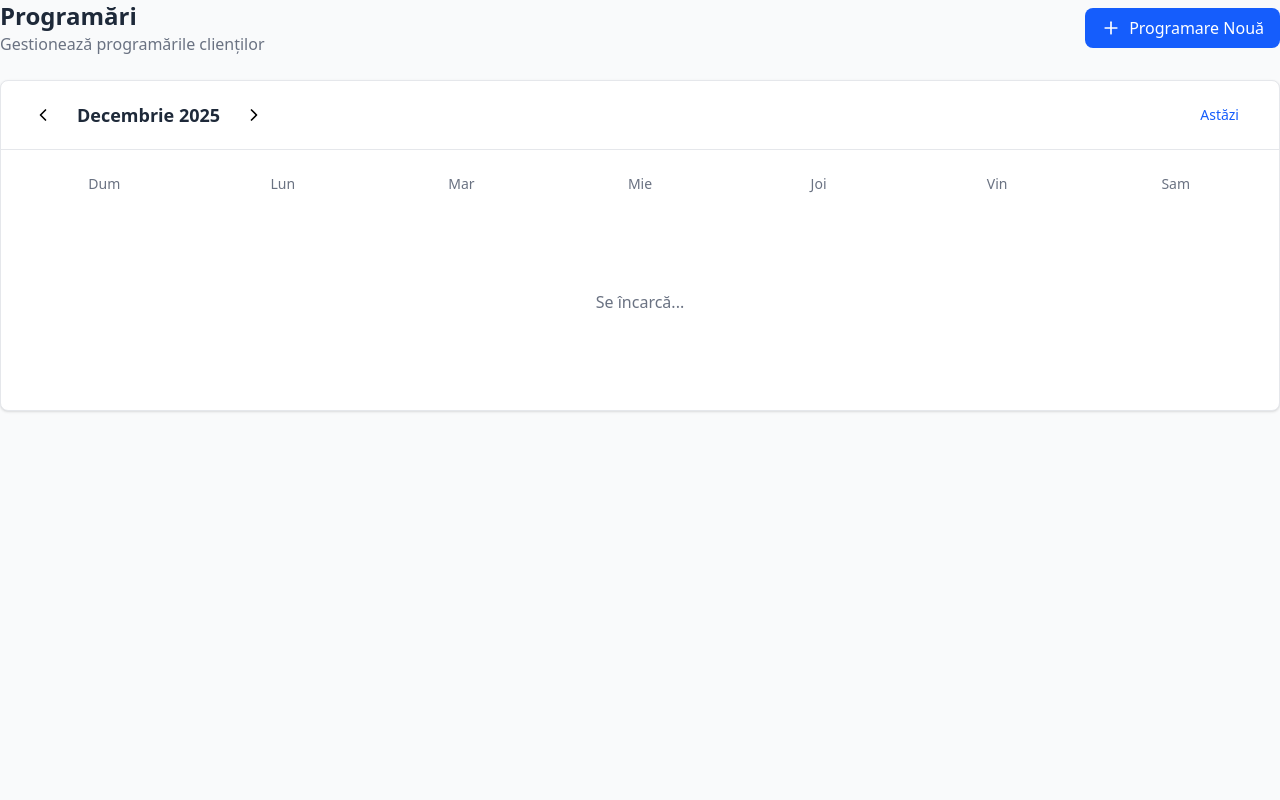
AppointmentsPage › opens new appointment modal when clicking button
Click the button "Programare Nouă". click: (1183, 28)
box: [1085,8,1279,48]
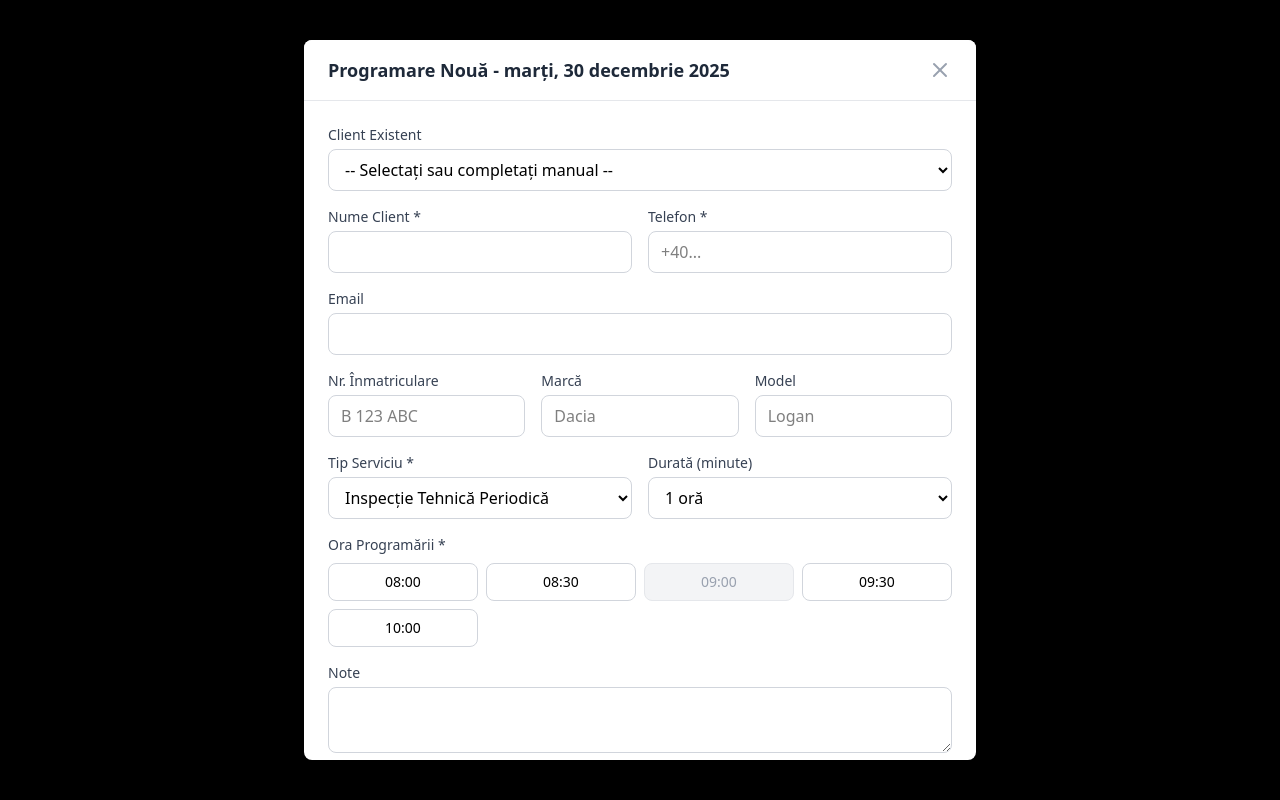
Expected: the text "Nume Client *" is shown, [328,207,421,226]
Expected: the text "Telefon *" is shown, [648,207,708,226]
